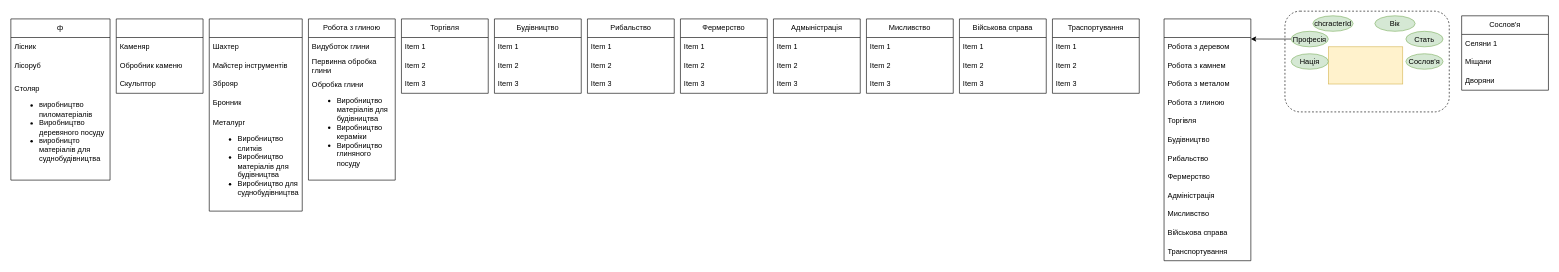
The diagram is 1559 pixels wide and 272 high, and some of its shapes have lost their labels. Each missing label, with the box of its shape:
Персонаж: (1328, 46, 1403, 84)
Робота з камнем - професії: (116, 18, 203, 93)
Робота з металом - професії: (209, 18, 302, 211)
Список сфер професій: (1163, 18, 1251, 261)
